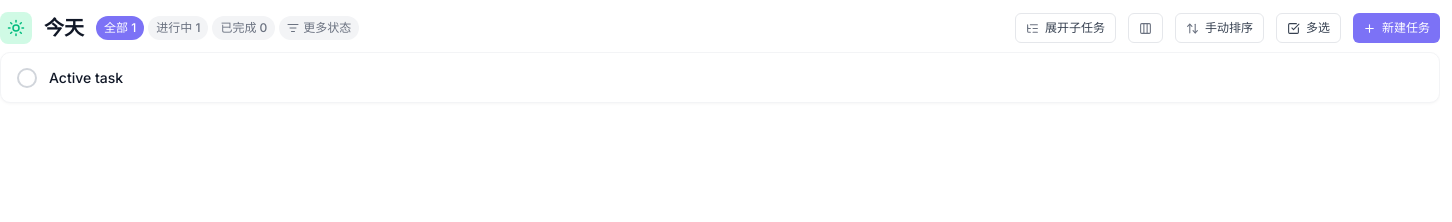
Scenario: TodayPage › shows a recoverable empty state for a status with no matches
Step 1. Click the button "更多状态" → click(319, 28), box [279, 16, 359, 40]
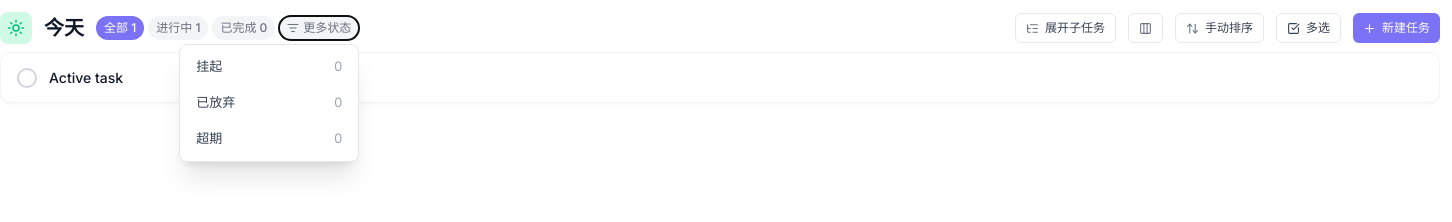
Step 2. Click the menu item "挂起 0" → click(269, 67), box [184, 49, 354, 85]
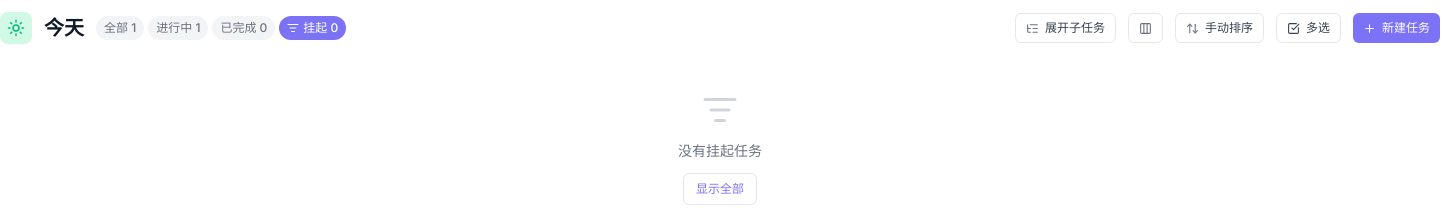
Check: the text "没有挂起任务" is shown, box [678, 140, 762, 161]
Step 3. Click the button "显示全部" → click(720, 189), box [683, 173, 757, 205]
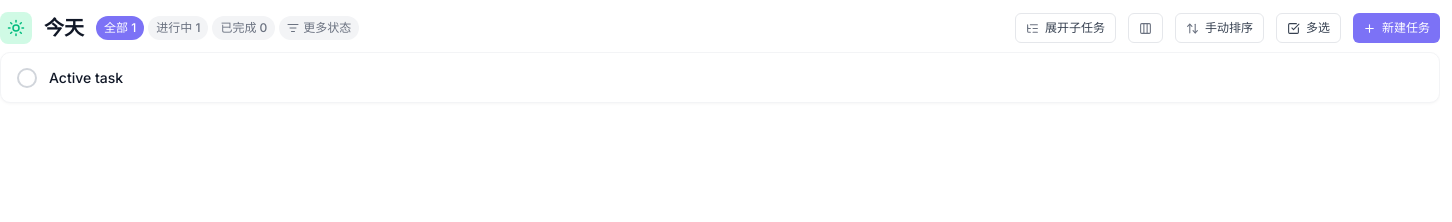
Check: the text "Active task" is shown, box [49, 67, 123, 88]
